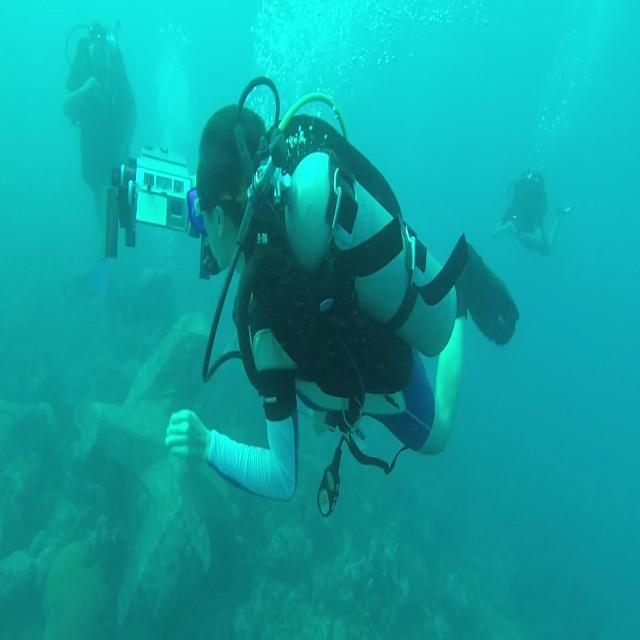human: (165, 90, 520, 516), (54, 19, 140, 250), (492, 167, 570, 257)
